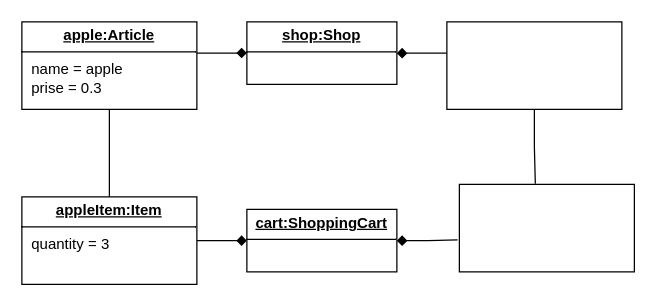
Some shapes in this 656 by 306 pixel diagram are drawn without their labels. The shapes that lost their labels are listed below. From the top down, each one's box as (x1, y1, x2, y2) in pixels, then its label:
(446, 21, 622, 109): banana:Article name = banana prise = 0.4
(458, 183, 634, 272): bananaItem:Items quantity = 2
